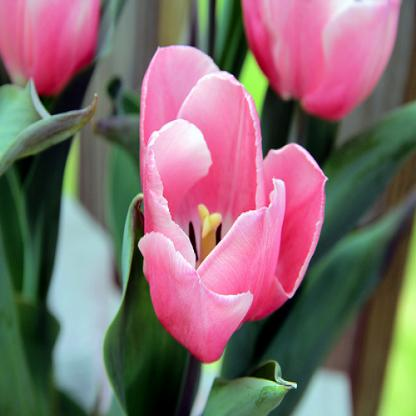TULIP: (114, 21, 340, 387)
